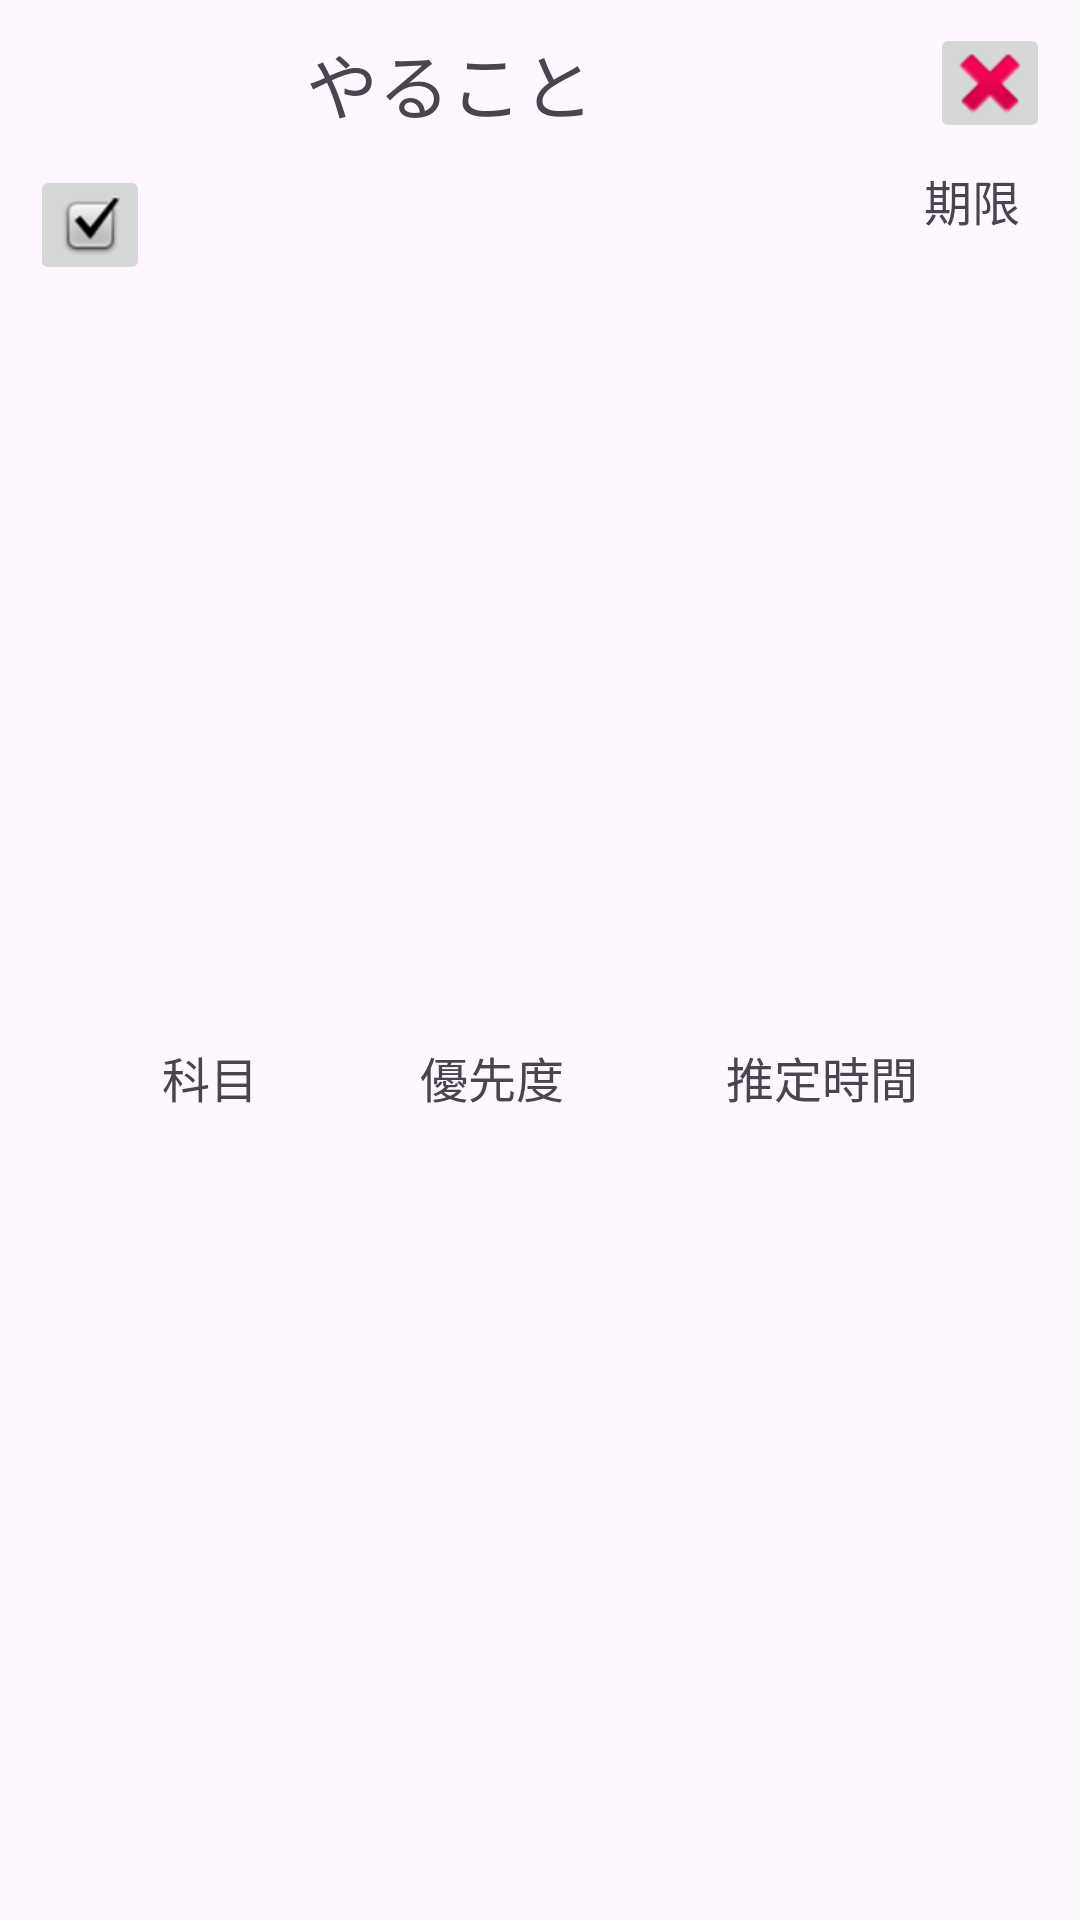

Point at icon controls on the screen. Image size 1080w x 1920h, points as (x,y).
delete: (990,83)
